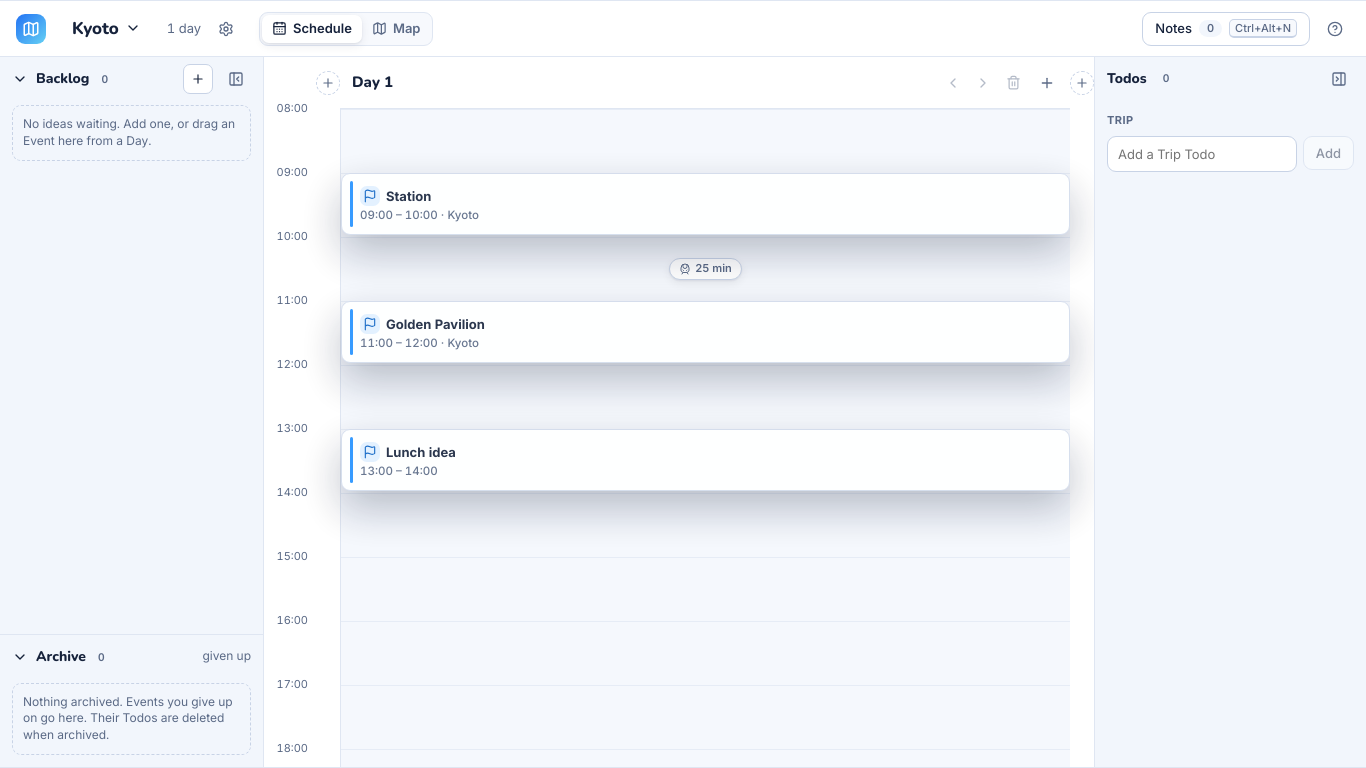
it: Legs on the timeline › shows the mode and duration, and the detail on click
Click the button with aria-label "Transit, 25 min. Open the Travel".
click(705, 269)  # box left=669, top=258, right=742, bottom=280
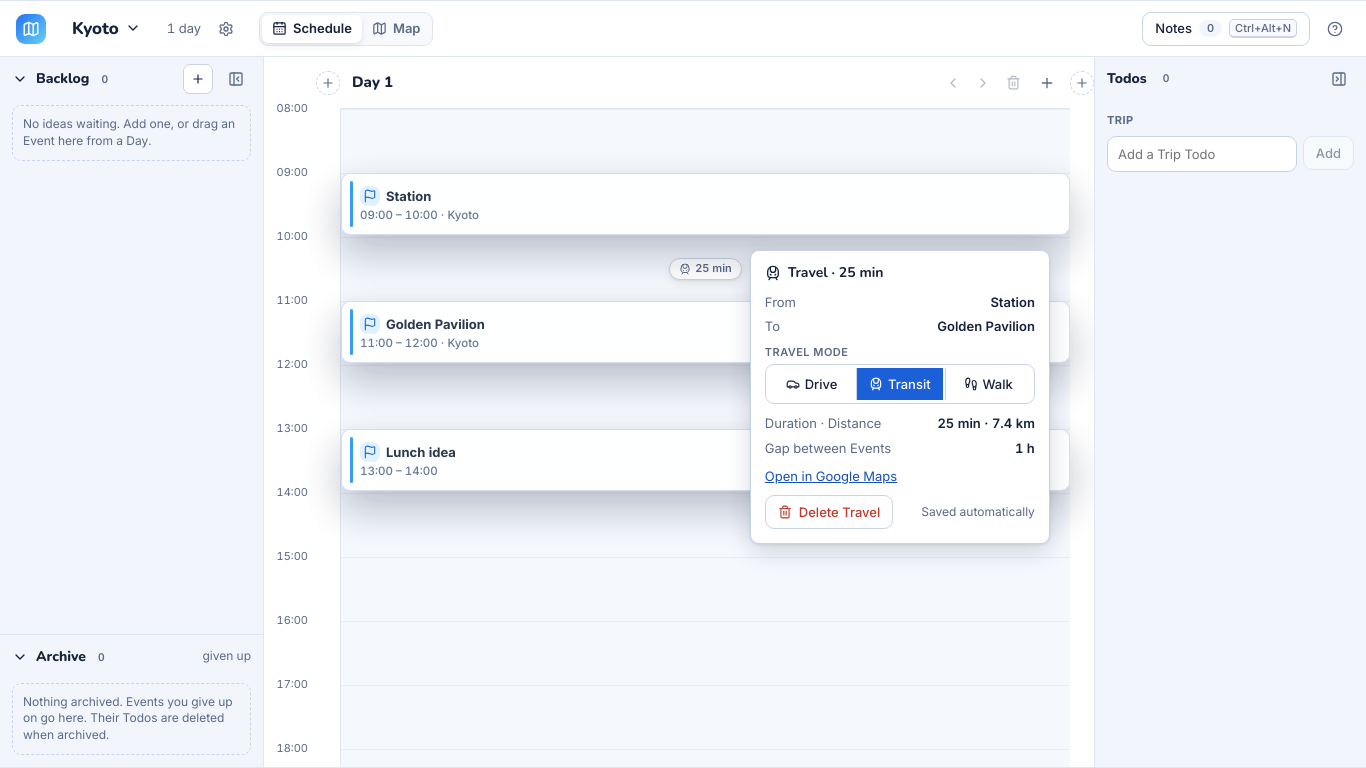
Now the text "Station" below "Travel · 25 min" is shown, box left=990, top=294, right=1035, bottom=310
Now the text "Golden Pavilion" below "Travel · 25 min" is shown, box left=937, top=318, right=1035, bottom=334
Now the text "25 min · 7.4 km" is shown, box left=937, top=415, right=1035, bottom=431
